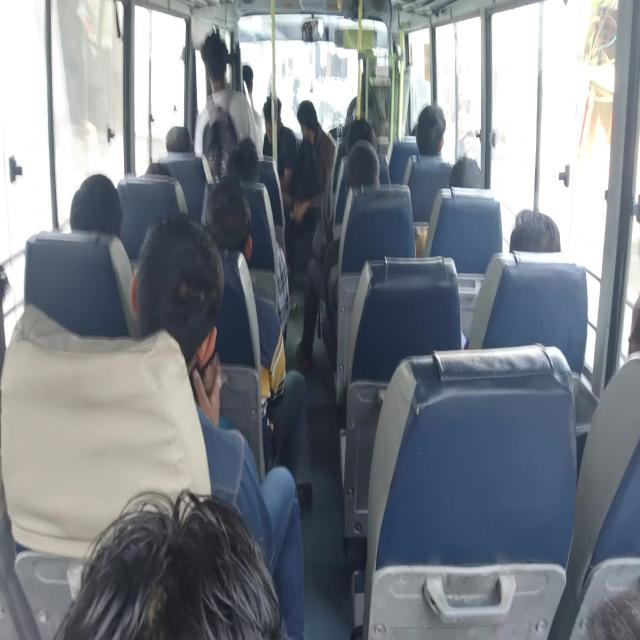person: (80, 381, 240, 640), (500, 199, 583, 300), (600, 261, 640, 389), (153, 244, 205, 317), (454, 157, 500, 236), (59, 178, 112, 235), (202, 197, 253, 256), (202, 41, 246, 98), (143, 157, 179, 194), (164, 122, 194, 166), (241, 132, 281, 164), (422, 100, 448, 146), (228, 160, 256, 195), (348, 144, 368, 180), (265, 85, 282, 127), (352, 126, 374, 149), (294, 88, 306, 128), (338, 115, 358, 138), (238, 59, 254, 86), (402, 117, 422, 135)
